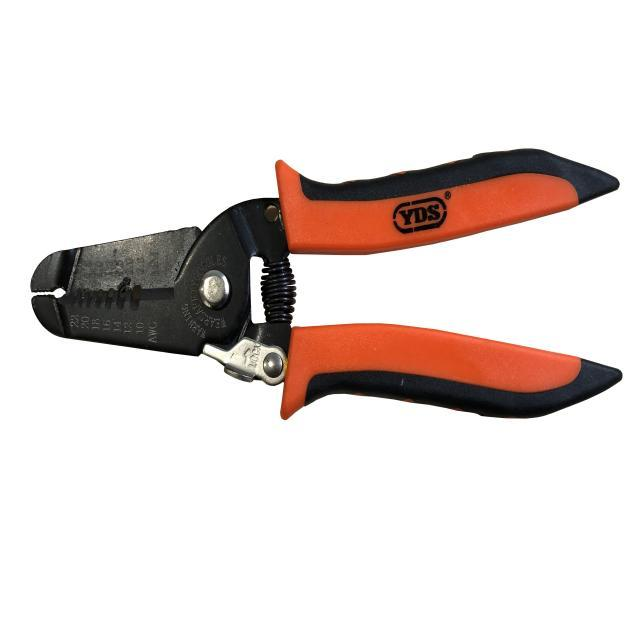pliers: (23, 140, 626, 432)
